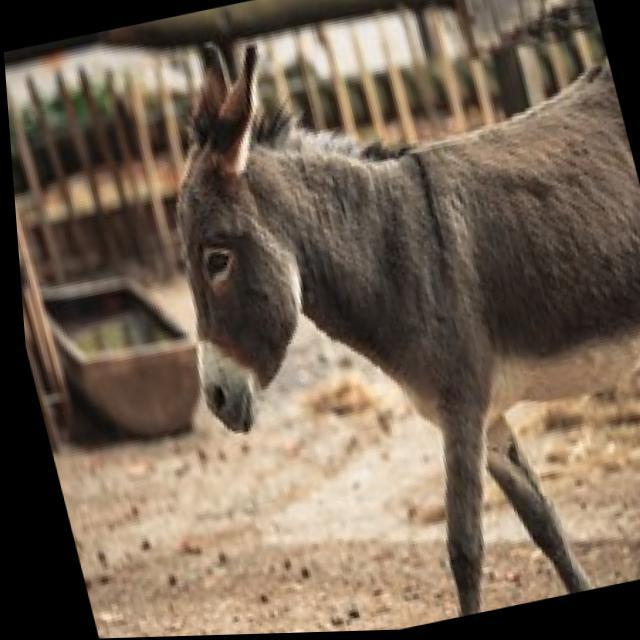Donkey: (109, 0, 640, 637), (6, 102, 122, 640)
